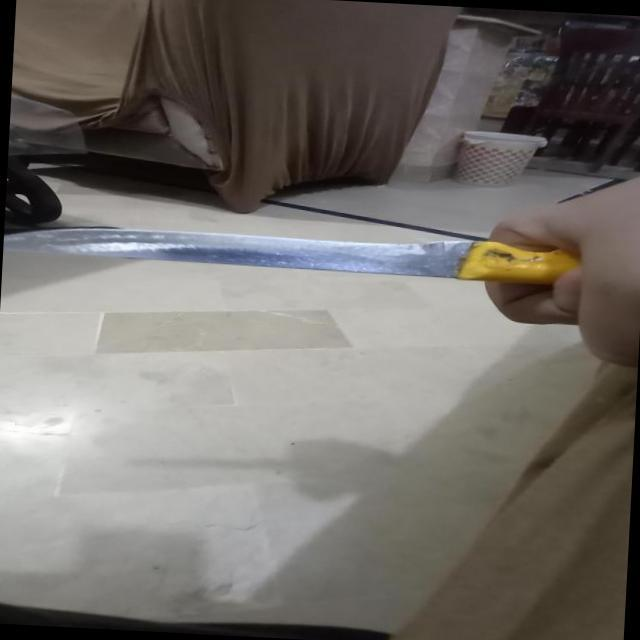Knife: (3, 202, 606, 310)
